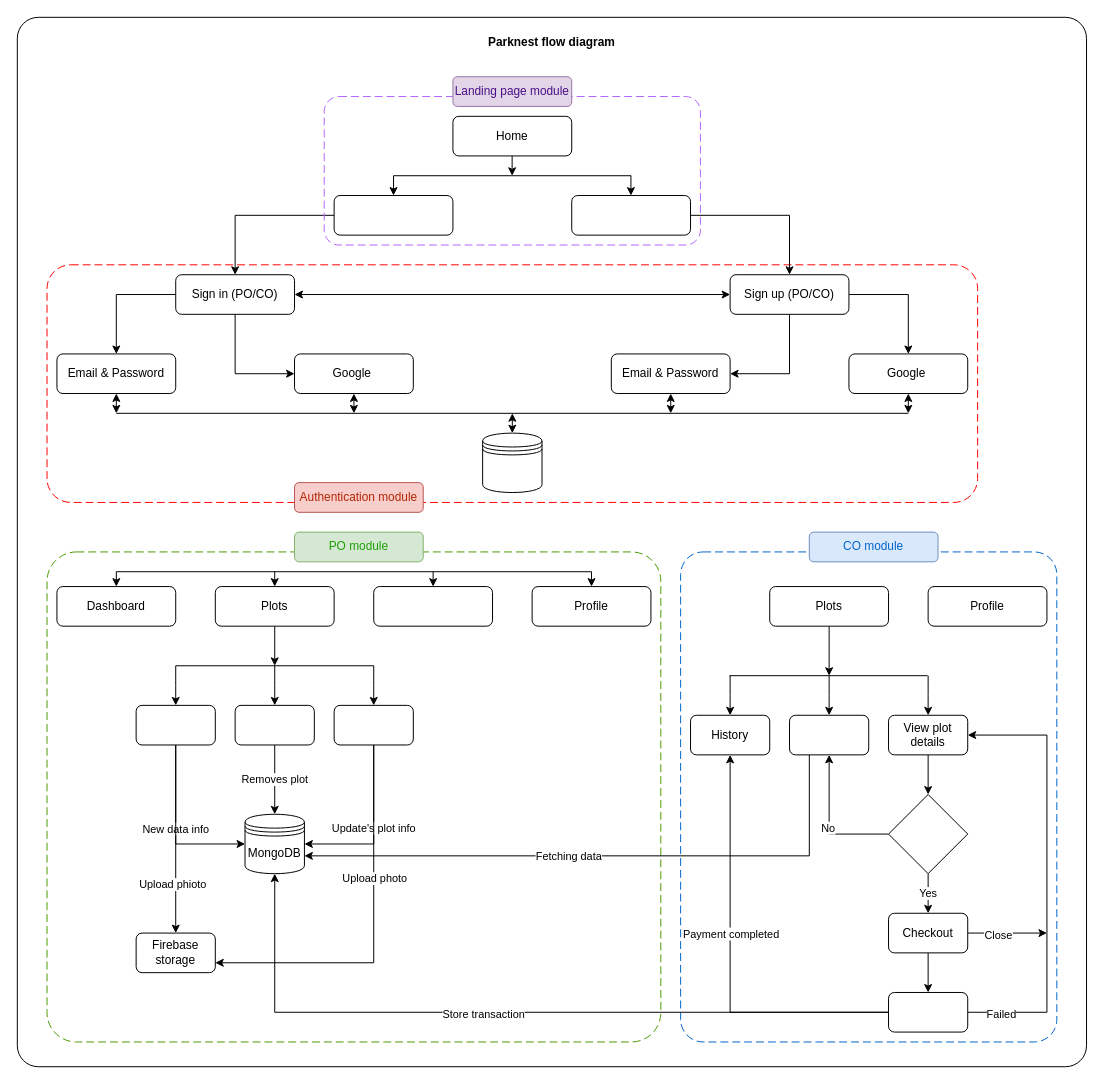
Image size: 1104x1084. Some labels were removed from this diagram. The shapes that lost their labels are listed below. From the top down, each one's centre as x and y in pixels, then its label:
At point 393,215: "Login".
At point 631,215: "Get started".
At point 433,606: "Bookings".
At point 175,724: "Add".
At point 274,724: "Delete".
At point 373,724: "Edit".
At point 829,734: "Search".
At point 928,833: "from search list?".
At point 928,1011: "Razorpay".
